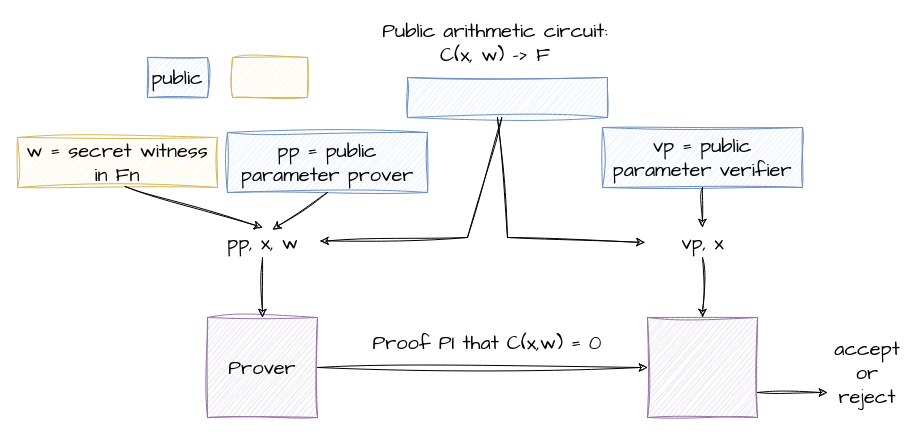
Image size: 918x435. Some labels were removed from this diagram. Here are the shapes that lost their labels. From the top down, the centre of each, then its label:
At (270,77): "secret".
At (507,97): "x = public statement in Fn".
At (702,367): "Verifier".
